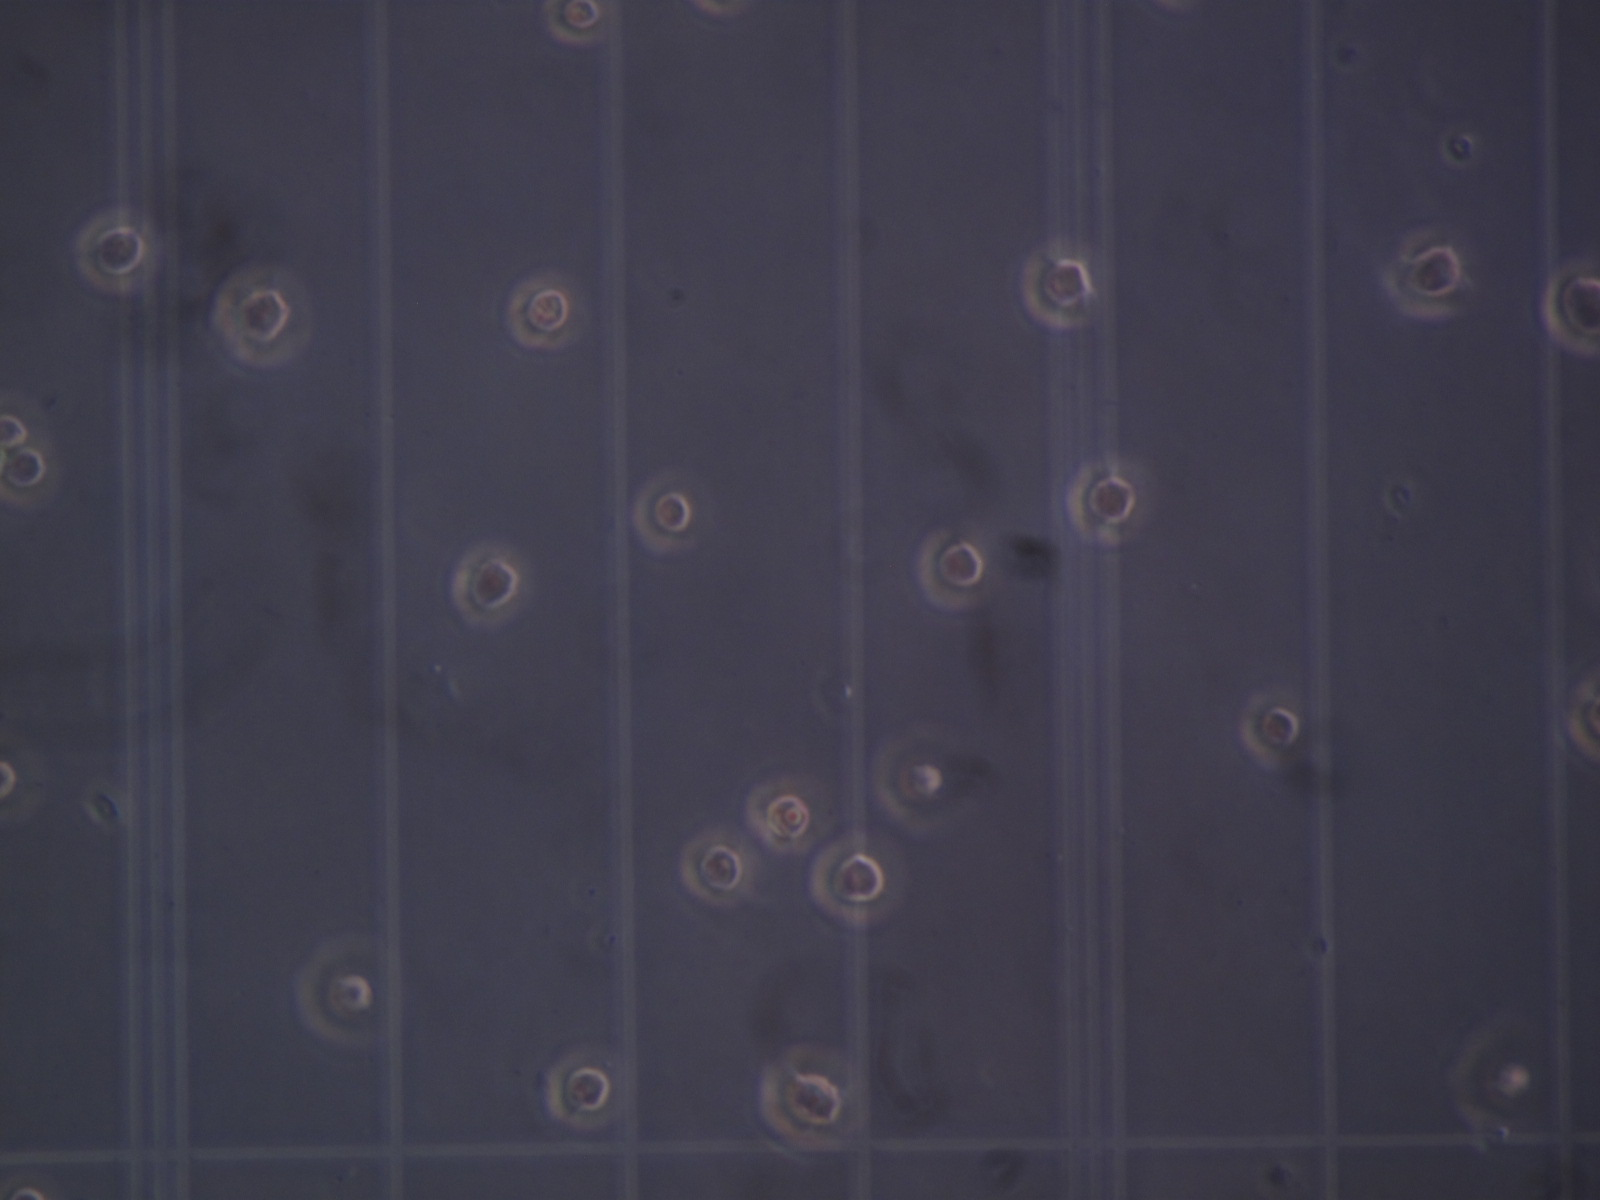hemo: (758, 1042, 862, 1151), (213, 266, 310, 368), (1448, 1024, 1533, 1134), (294, 944, 374, 1046), (1382, 227, 1464, 319), (872, 735, 947, 834), (72, 209, 155, 294), (809, 837, 889, 924), (1067, 460, 1143, 543), (1020, 245, 1094, 330), (678, 829, 753, 906), (450, 545, 520, 626), (1541, 258, 1600, 355), (916, 529, 984, 611), (546, 1053, 612, 1129), (745, 779, 811, 852), (631, 476, 692, 555), (1238, 692, 1300, 768), (506, 277, 569, 350), (1, 446, 52, 507), (1566, 673, 1600, 763), (1, 729, 33, 824), (543, 3, 603, 45), (1, 395, 29, 451), (1, 744, 19, 824), (1, 1175, 49, 1200)
